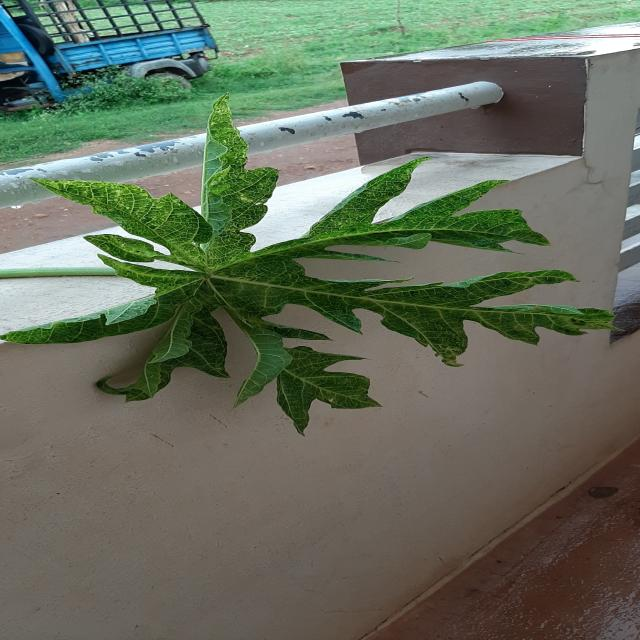papaya: (3, 98, 615, 431)
